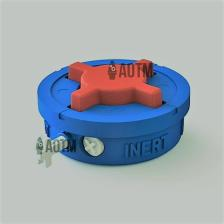PMN2: (23, 53, 207, 182)
